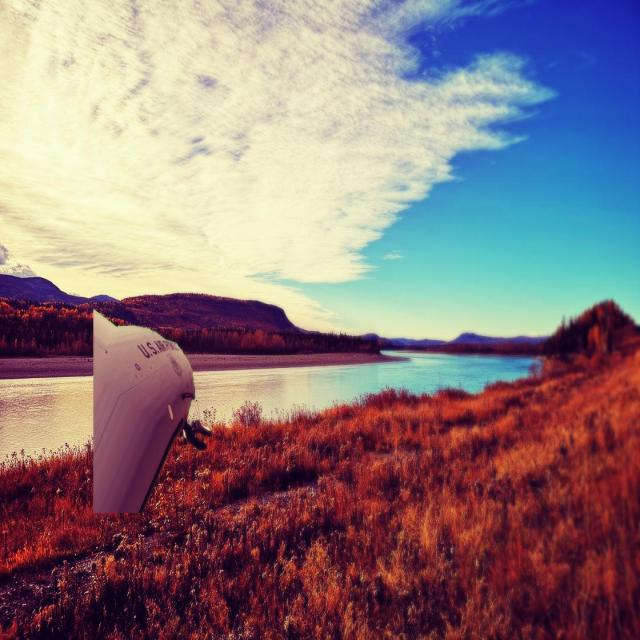airplane: (92, 308, 212, 514)
